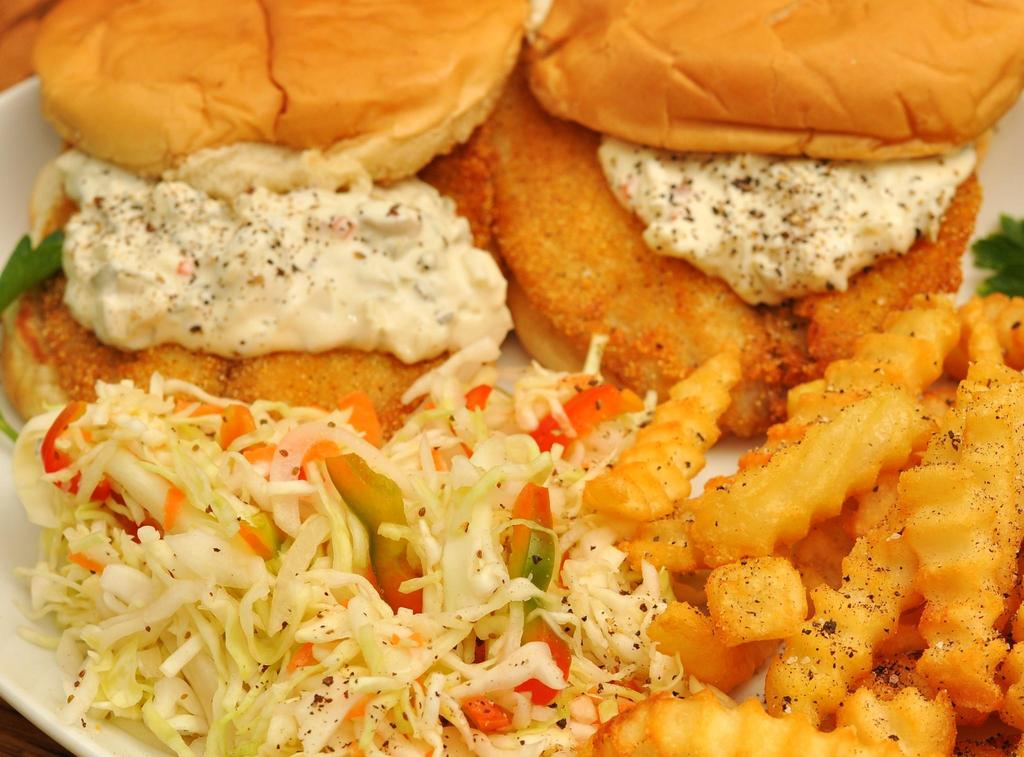Hamburger: (0, 0, 532, 417), (482, 0, 1021, 370)
